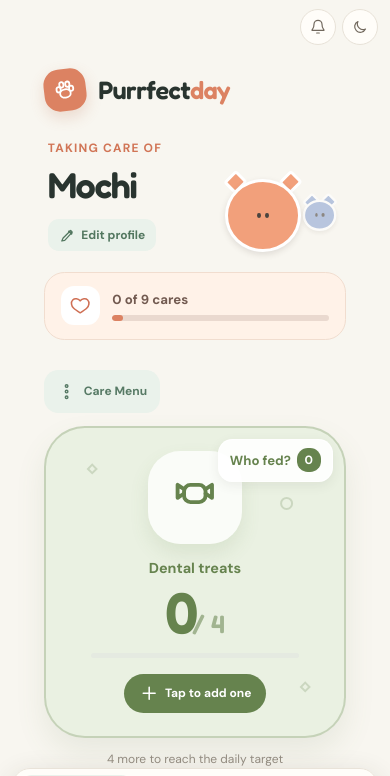
tracking and family navigation › opens tracking choices in a dialog and switches to the selected metric
This screenshot has width=390, height=776.
Step 1. Click the button "Care Menu" → (102, 391), box 44,370 -> 160,413
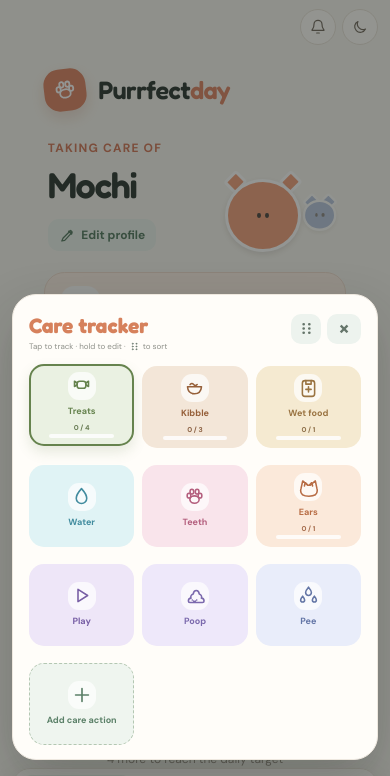
Step 2. Click the button "Play" → (82, 605), box 29,564 -> 134,646
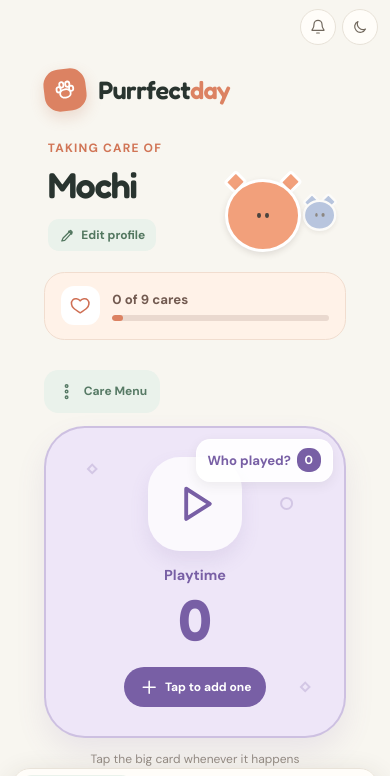
Expected: the button "Tap to add one" is shown, 124,667 -> 266,707
Now the dialog is gone
Now the element named "Playtime tracker" is shown, box 44,426 -> 346,738
